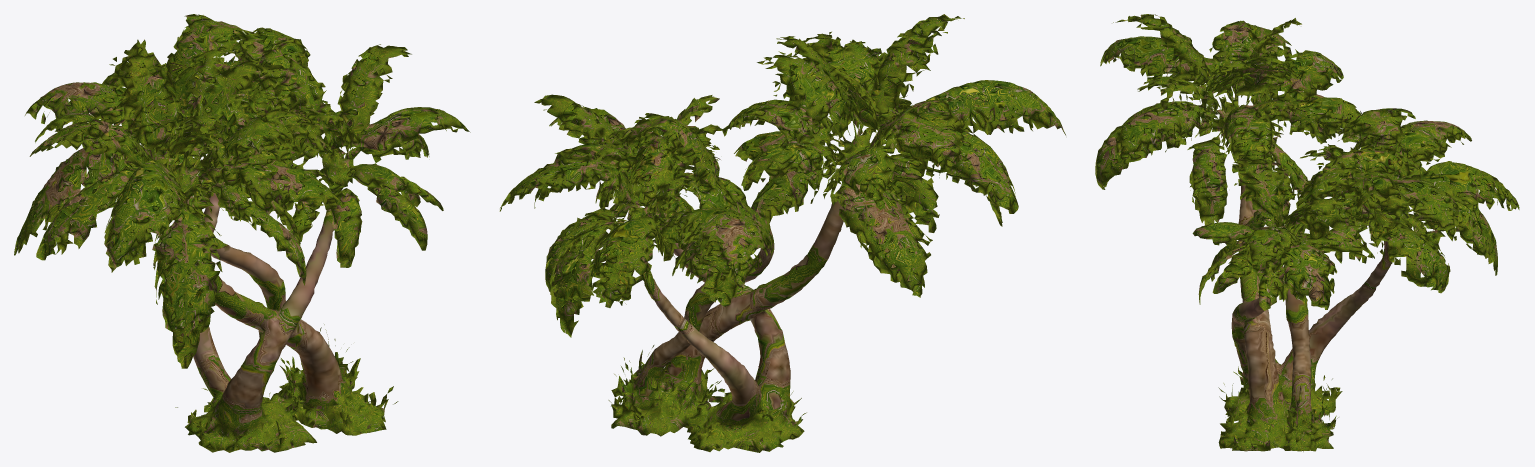
File: palm_real.glb
The picture shows the model from 3 angles, left to right: view 1: azimuth 30°, elevation 25°; view 2: azimuth 150°, elevation 25°; view 3: azimuth 270°, elevation 25°; orthographic projection. The views are drawn at different scales.
Size of the model in its own units: 1.88 by 1.61 by 1.79.
1 material, 1 textured.
